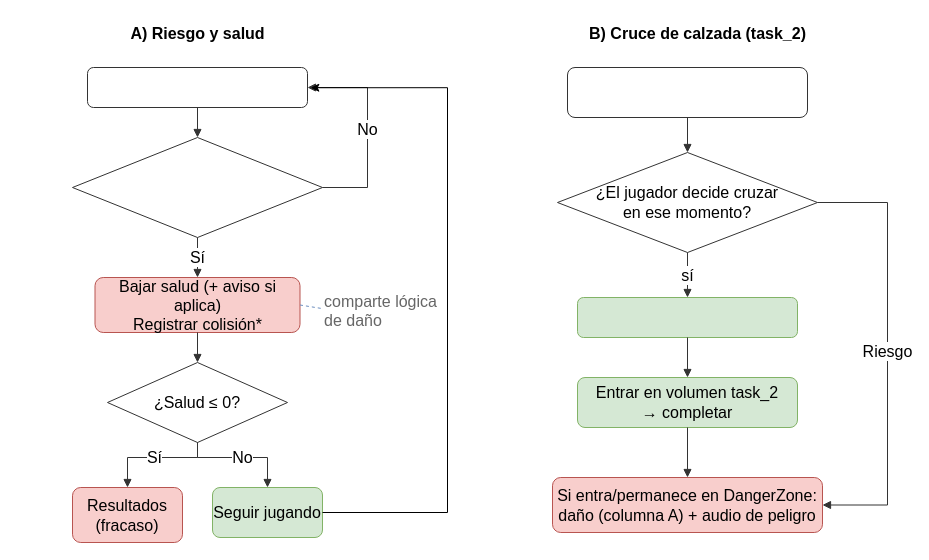
Image size: 929x560. Some labels were removed from this diagram. The centre of each missing label's shape, as x and y in pixels:
"Atravesar paso peatonal" goes at [687,317].
"Borde de calzada + audio del semáforo" goes at [687,92].
"Durante el recorrido" goes at [197,87].
"¿Colisión (obstáculo, peatón, vehículo) o DangerZone?" goes at [197,187].
